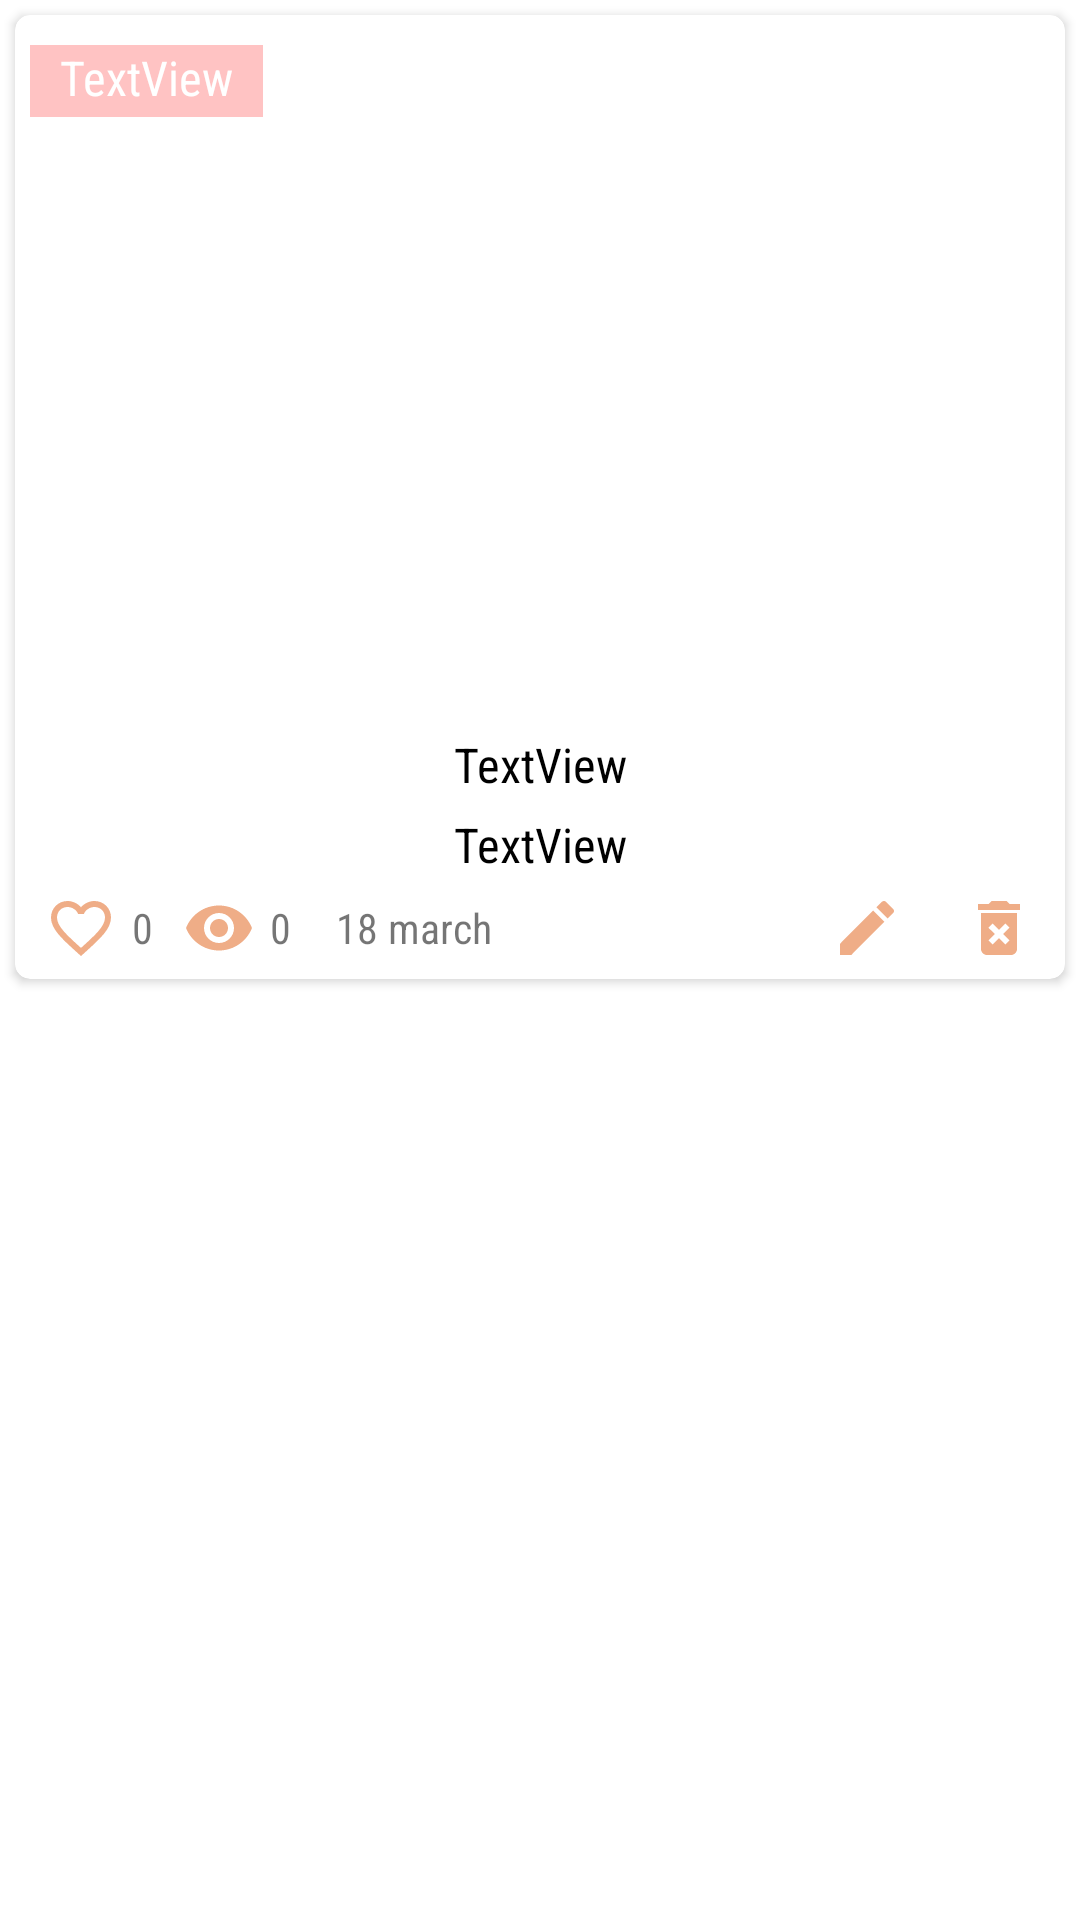

Where icons sit on this 1080 x 1920 app screen, as (x1, y1, x2, y2):
delete ad: (978, 901, 1020, 955)
edit ad: (840, 901, 894, 955)
like: (51, 901, 111, 956)
views counter: (186, 905, 252, 951)
